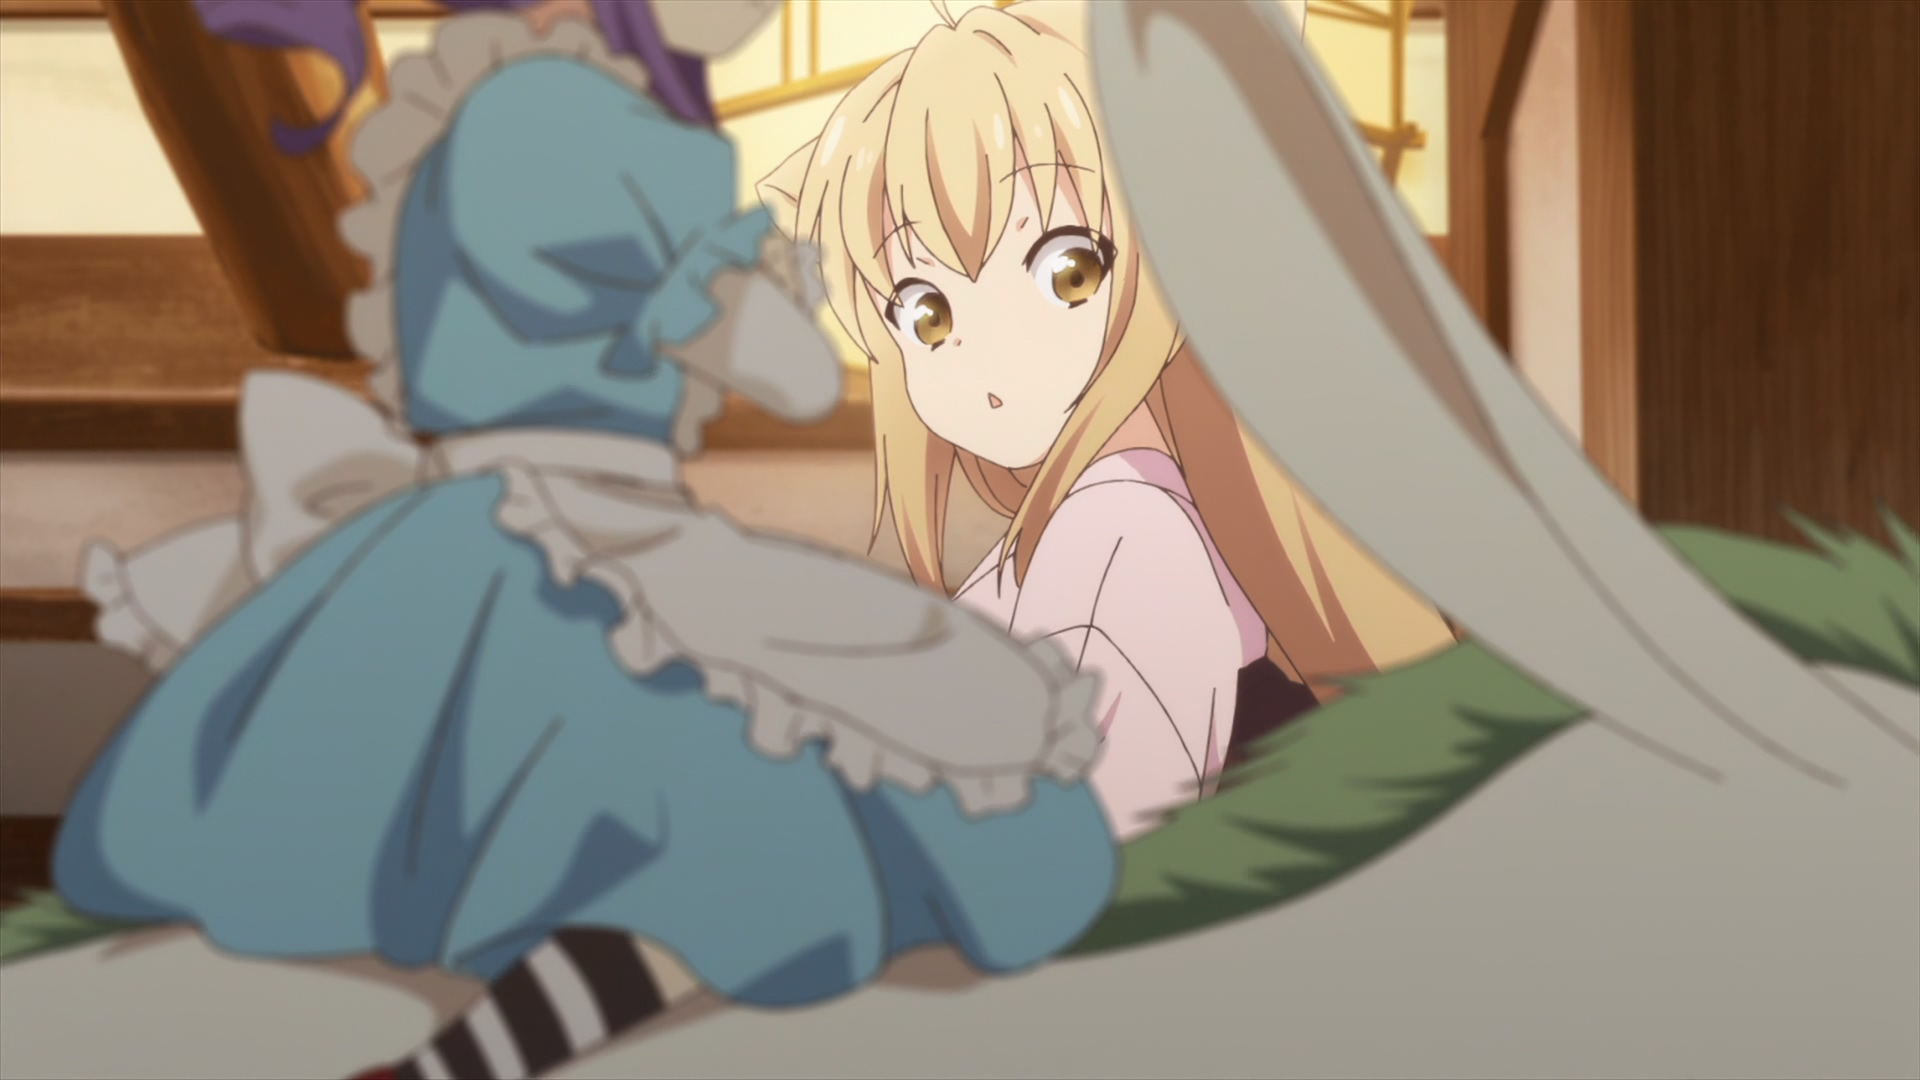柚: (756, 1, 1457, 840)
瓜之介: (1, 1, 1920, 1080)
阿菊: (45, 1, 1117, 1080)
